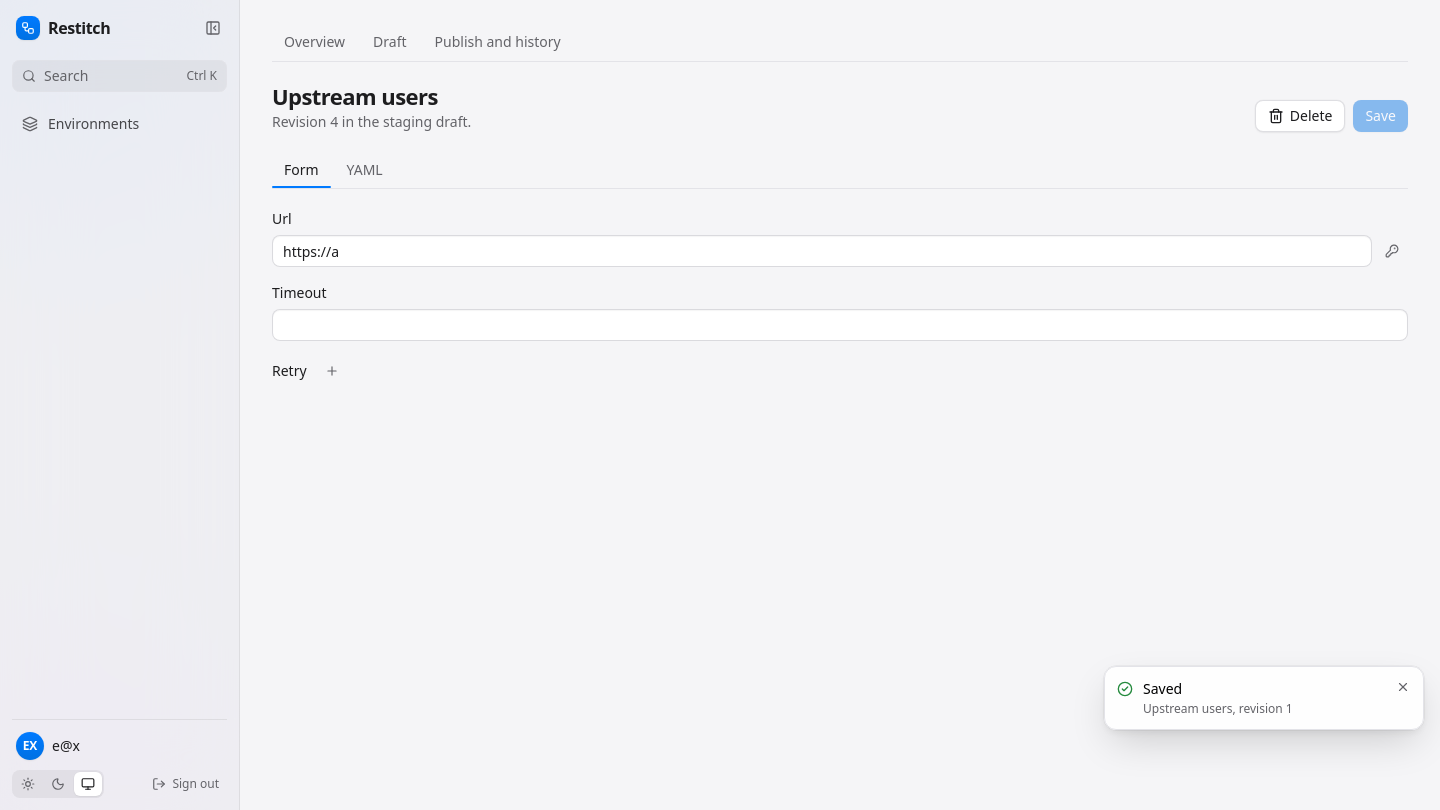
the resource form › offers a reload when the save is stale
The width and height of the screenshot is (1440, 810).
Replace the text in the field labelled "Url" with "https://b" at (822, 251), box [272,235,1372,267]
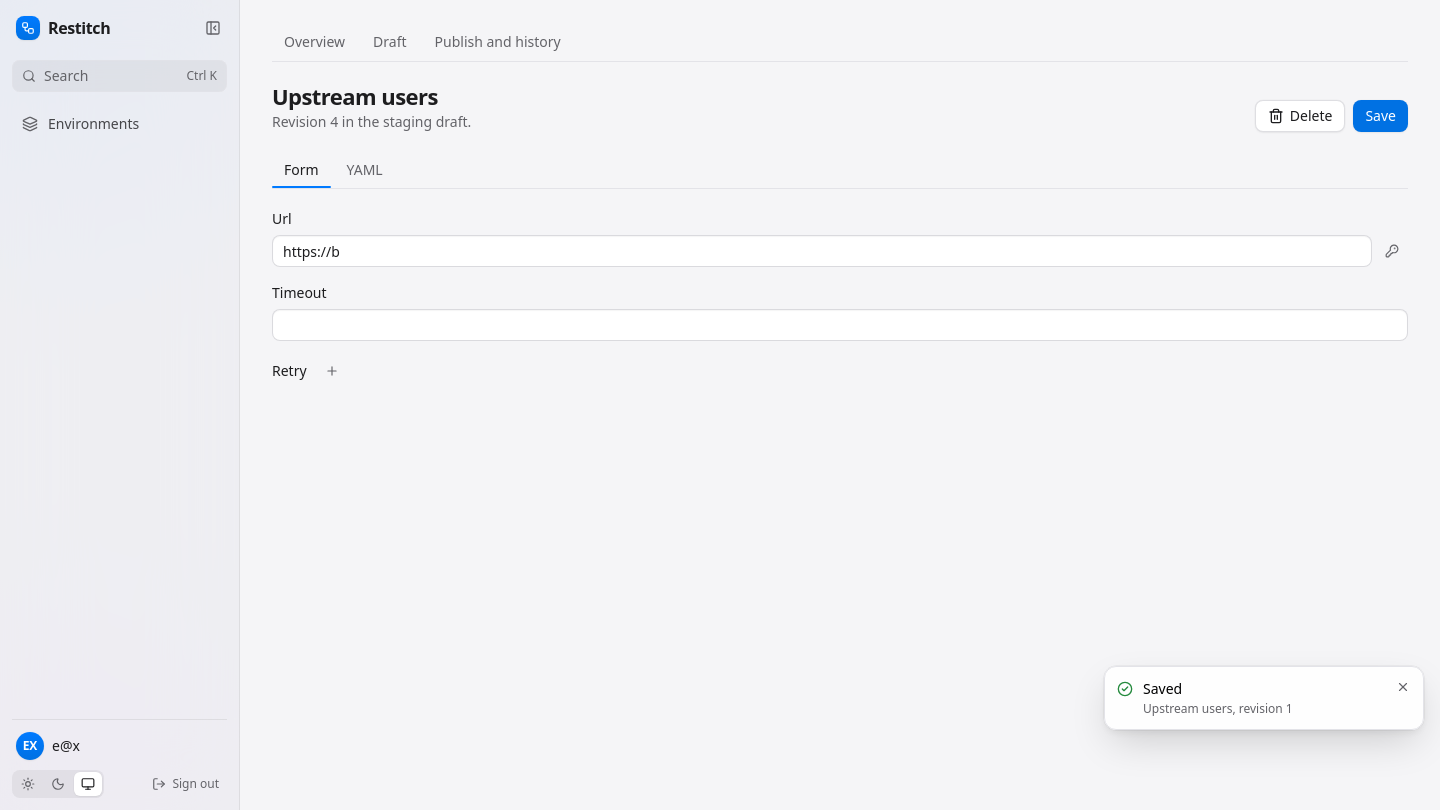
Click the button "Save".
click(1381, 116)  # box [1353,100,1408,132]
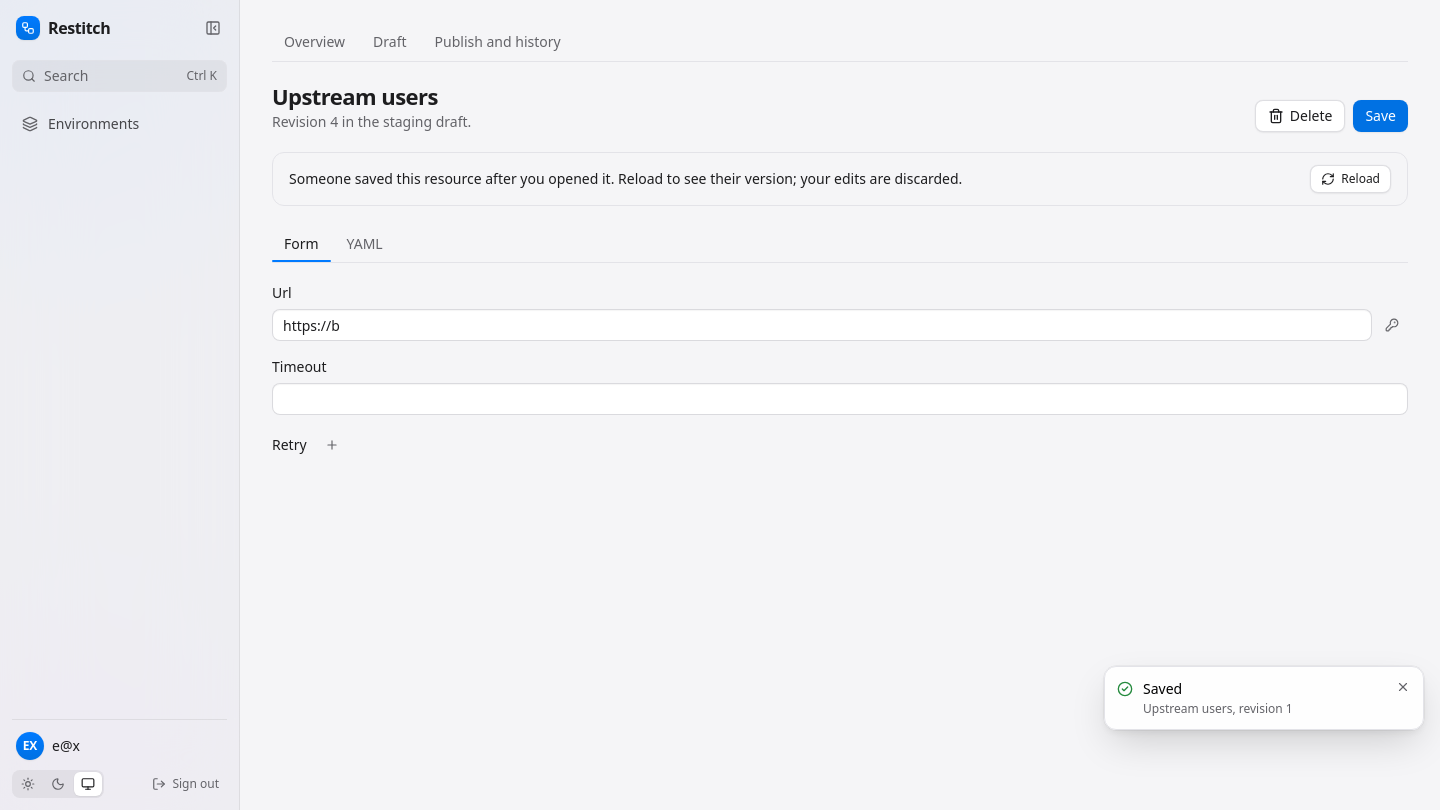
Result: the button "Reload" is shown at [1310,165,1391,193]
